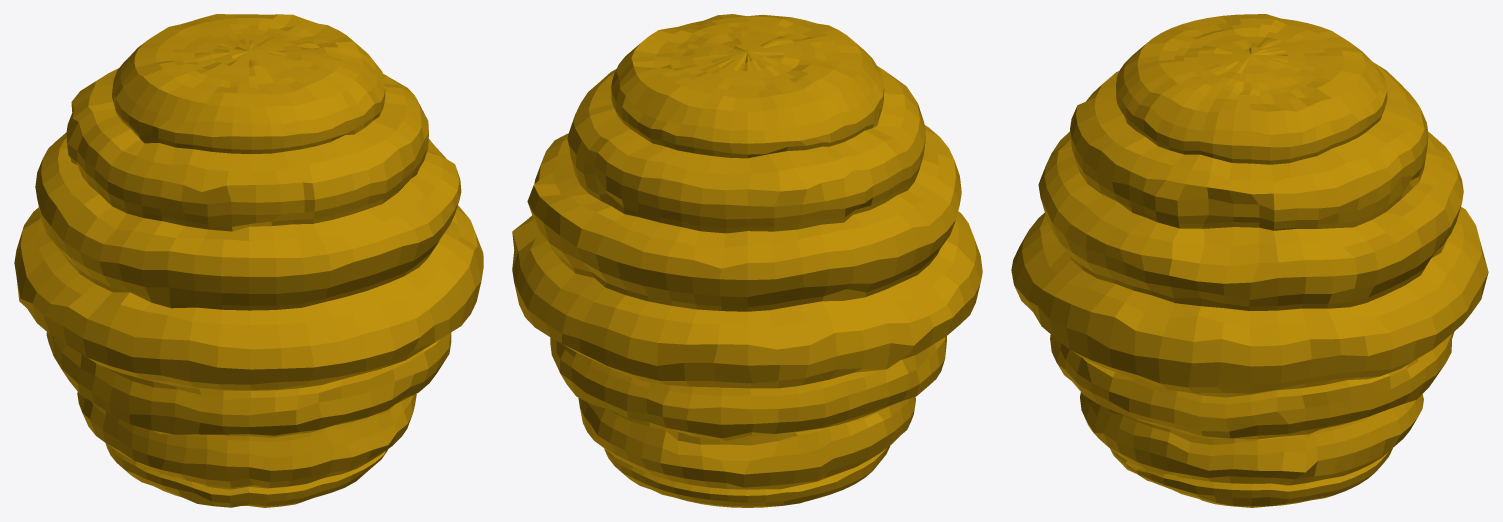
File: beehive_dummy.fbx
3 renders of one model, left to right at view 1: azimuth 30°, elevation 25°; view 2: azimuth 150°, elevation 25°; view 3: azimuth 270°, elevation 25°, orthographic.
Parts seen in each view (by area): view 1: Torus.001; view 2: Torus.001; view 3: Torus.001.
Part boxes in pixels (x1,y1,x2,y2): Torus.001: (14, 14, 483, 507); Torus.001: (512, 14, 982, 507); Torus.001: (1011, 14, 1488, 507).
Size of the model in its own units: 70.91 by 69.15 by 72.16.
